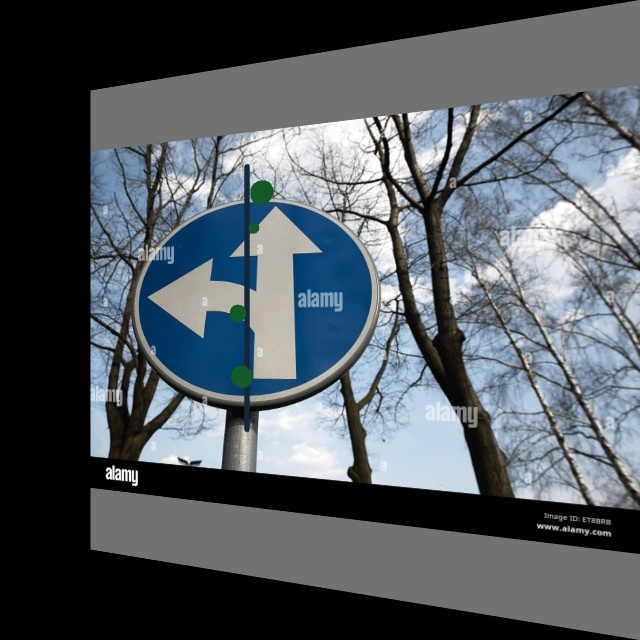Compulsory_Ahead_or_Turn_Left: (127, 184, 377, 411)
